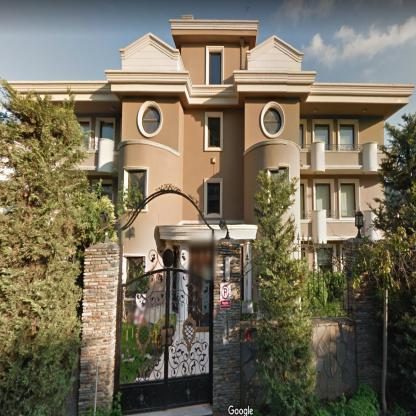door: (118, 269, 212, 415), (99, 120, 114, 140)
window: (314, 182, 332, 218), (340, 182, 356, 217), (206, 182, 221, 216), (142, 106, 160, 134), (128, 170, 146, 197), (263, 108, 281, 134), (209, 50, 222, 84), (207, 115, 220, 148), (314, 124, 330, 149), (340, 123, 354, 151), (78, 120, 90, 132), (301, 183, 305, 219), (300, 124, 304, 148)
